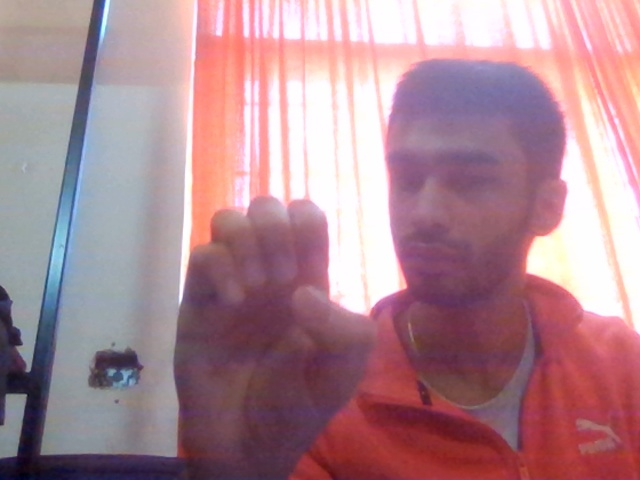E: (136, 170, 382, 480)
